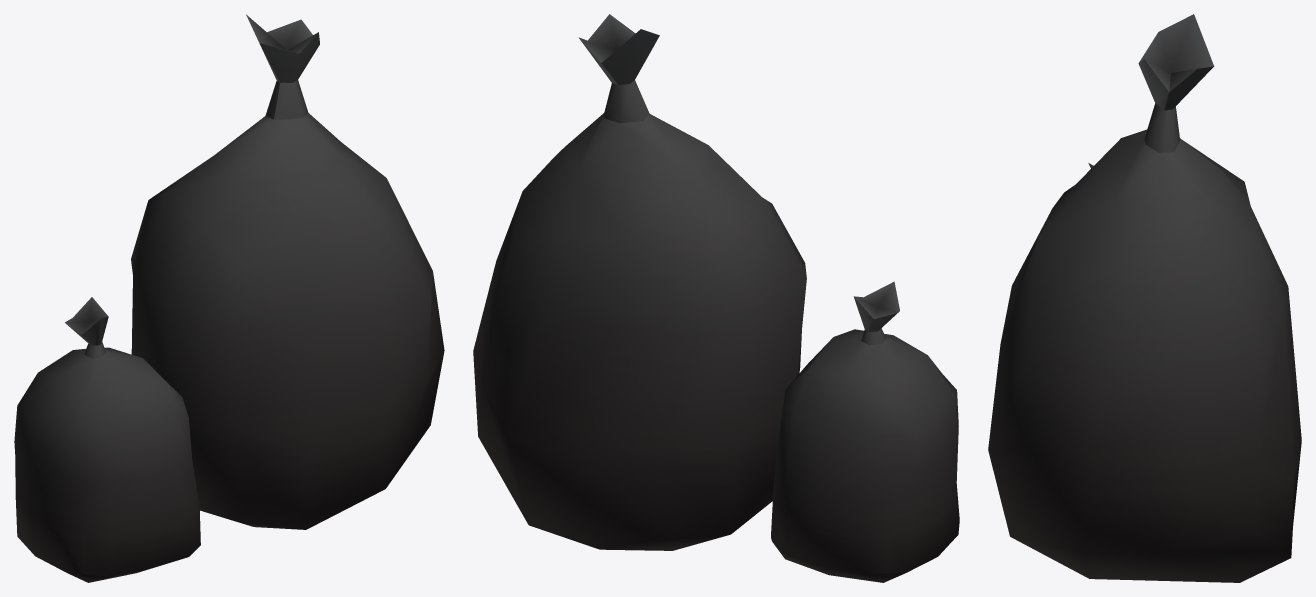
File: Trash_bag_003.glb
The picture shows the model from 3 angles, left to right: view 1: azimuth 30°, elevation 25°; view 2: azimuth 150°, elevation 25°; view 3: azimuth 270°, elevation 25°; orthographic projection. The views are drawn at different scales.
Parts seen in each view (by area): view 1: Trash_bag_003; view 2: Trash_bag_003; view 3: Trash_bag_003.
Part boxes in pixels (x1=…): Trash_bag_003: x1=14, y1=14, x2=444, y2=582; Trash_bag_003: x1=473, y1=14, x2=959, y2=582; Trash_bag_003: x1=988, y1=14, x2=1301, y2=582.
Bounding box in the file's own units: 0.5722 × 0.6318 × 0.3356.
1 material, 1 textured.
